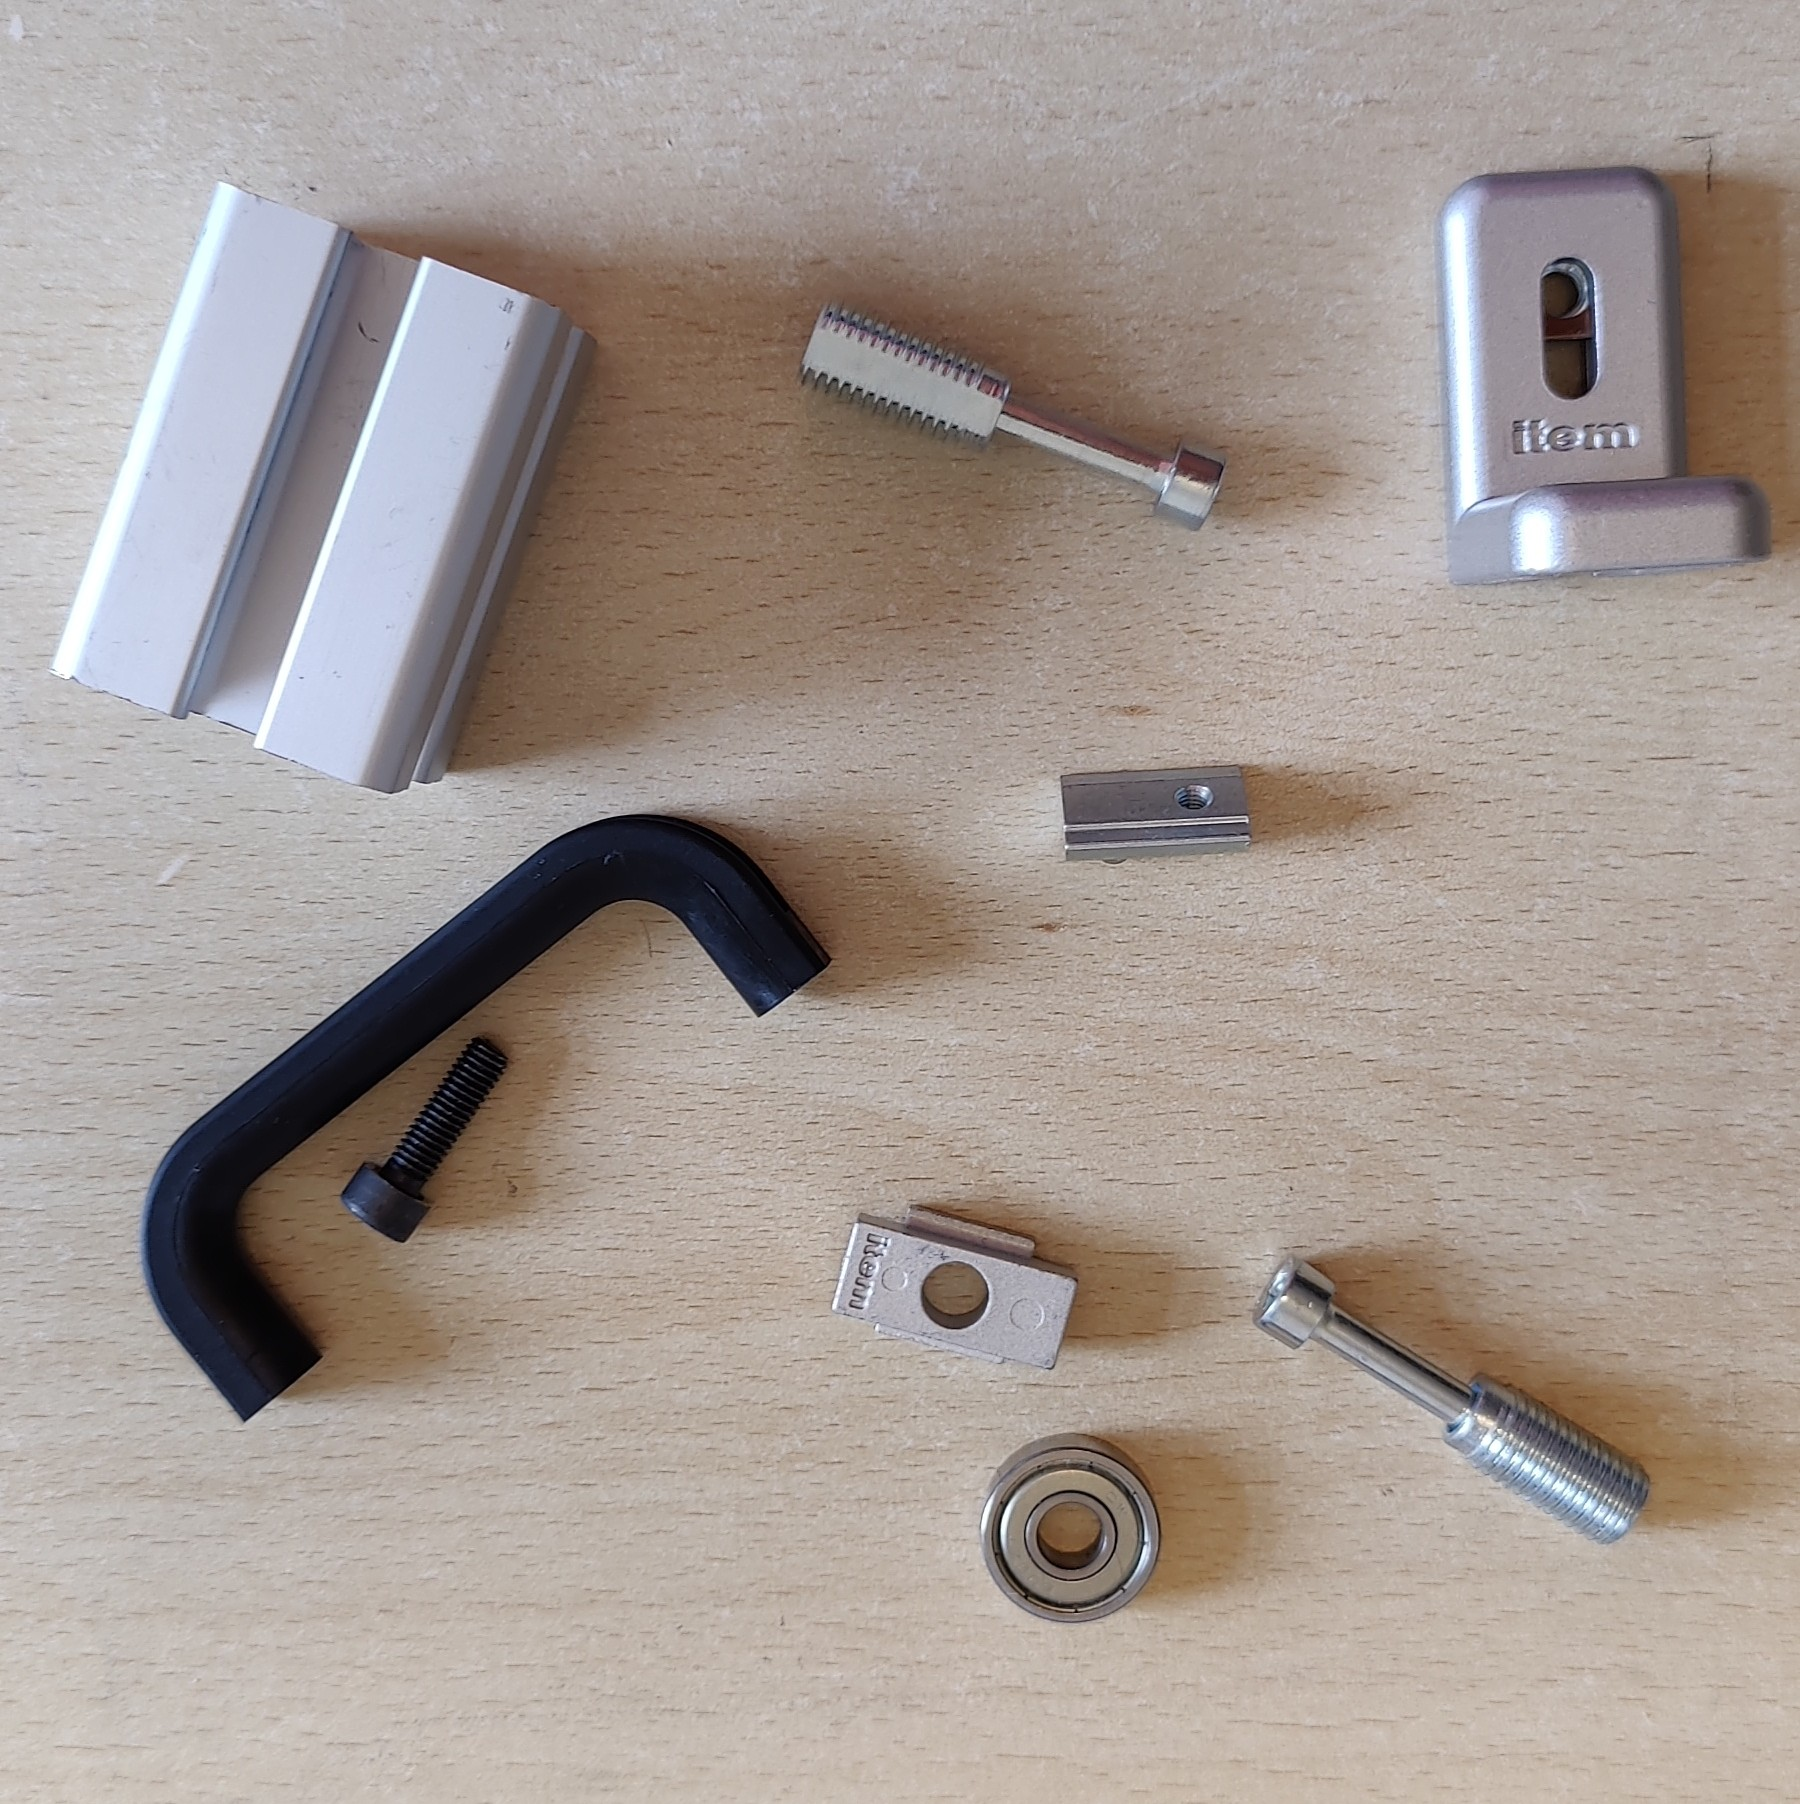Aluminium Extension: (48, 181, 600, 796)
Ball Bearing: (977, 1430, 1164, 1624)
Multiwinkel: (1431, 163, 1770, 594)
Pull Handle: (138, 811, 832, 1425)
Shoulder Socket Head Cap Screw: (1246, 1252, 1652, 1547), (793, 298, 1230, 534)
Socket Head Cap Screw: (336, 1029, 511, 1247)
T Nut Square: (826, 1204, 1081, 1374)
T Spring Nut: (1055, 762, 1254, 867)
